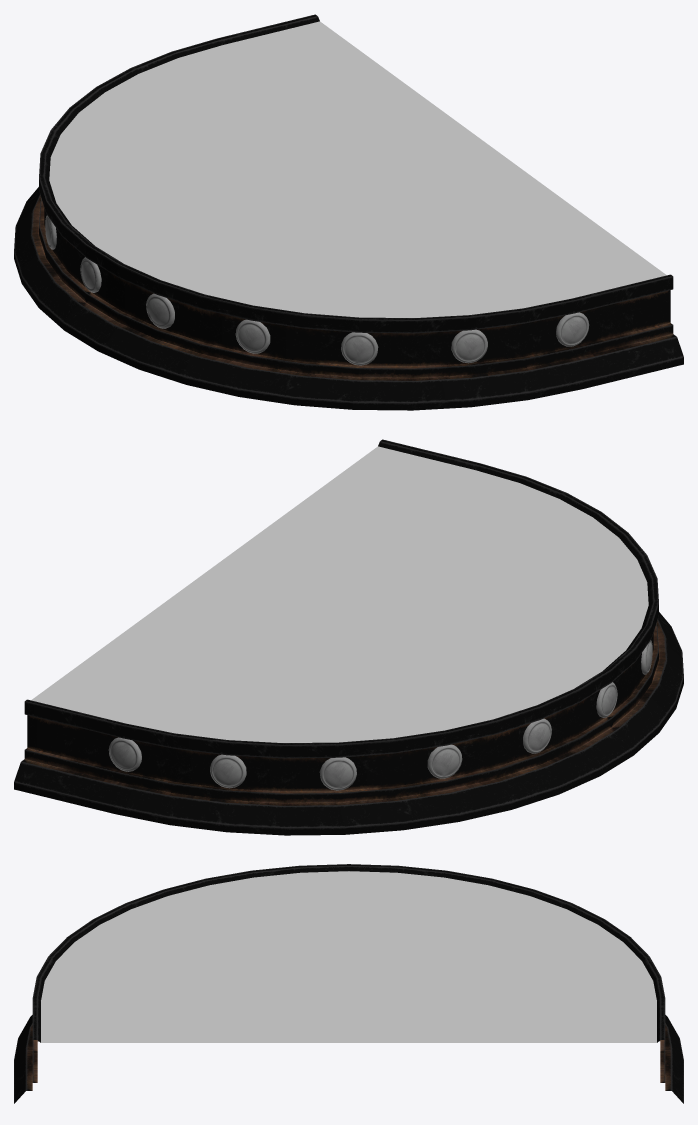
File: ENV_MOD_Pirate_Stage.mo.fbx
3 views of the same model, one above another, from view 1: azimuth 30°, elevation 25°; view 2: azimuth 150°, elevation 25°; view 3: azimuth 270°, elevation 25° (orthographic). The views are drawn at different scales.
Visible parts, largest first — view 1: ENV_MOD_Pirate_Stage.mo; view 2: ENV_MOD_Pirate_Stage.mo; view 3: ENV_MOD_Pirate_Stage.mo.
Boxes of the visible parts, x1=… form: ENV_MOD_Pirate_Stage.mo: x1=14, y1=14, x2=683, y2=410; ENV_MOD_Pirate_Stage.mo: x1=14, y1=439, x2=683, y2=835; ENV_MOD_Pirate_Stage.mo: x1=14, y1=864, x2=683, y2=1103.
Size of the model in its own units: 236 by 42.16 by 361.
